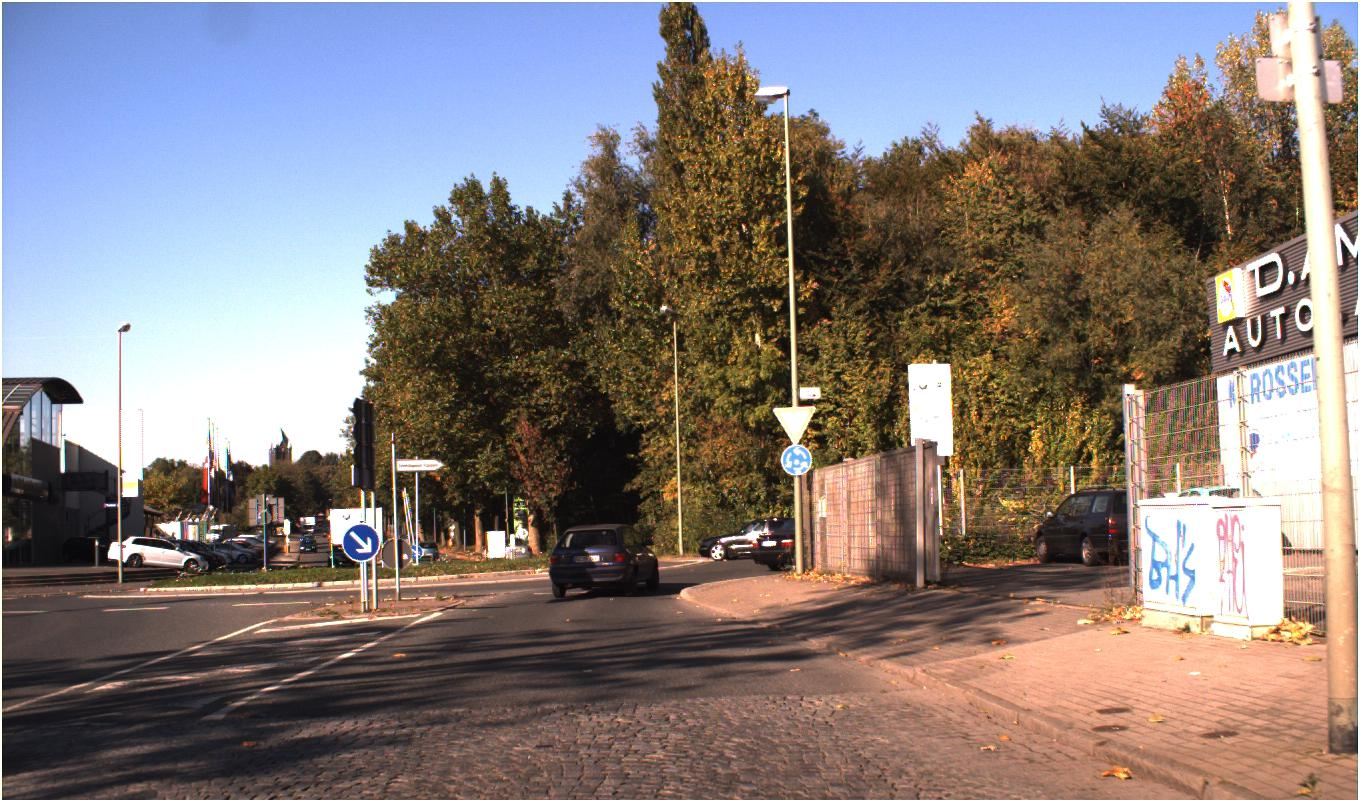mandatory: (341, 523, 380, 562), (780, 443, 811, 474)
sign: (771, 405, 815, 443)
